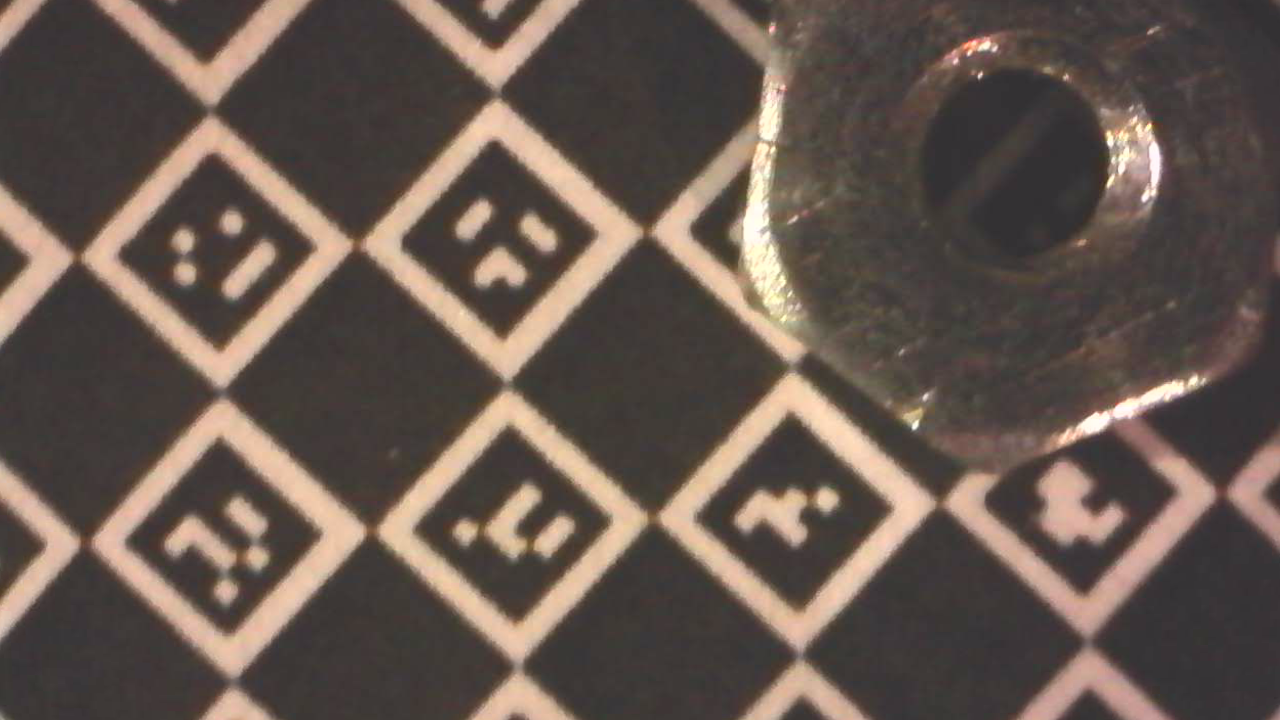Bolt: (737, 0, 1279, 481)
